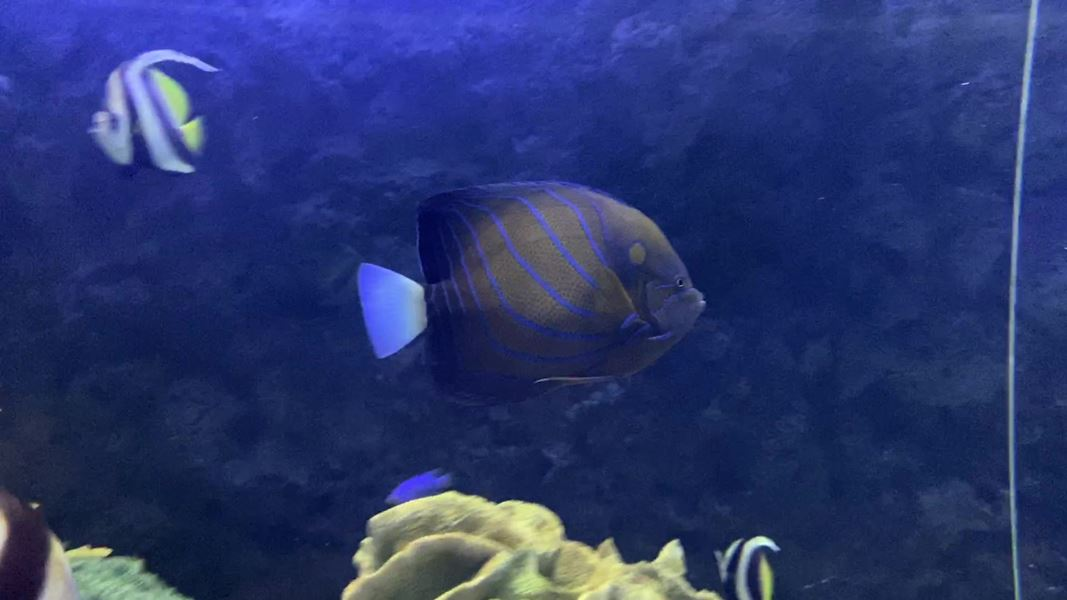Blue ring angelfish: (350, 173, 738, 433)
